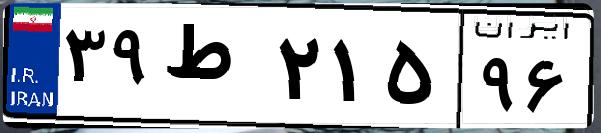1: (330, 28, 385, 110)
2: (270, 28, 330, 110)
3: (57, 26, 110, 100)
5: (385, 28, 445, 110)
6: (525, 38, 570, 115)
9: (475, 38, 525, 113), (110, 28, 158, 98)
ط: (158, 20, 270, 120)
